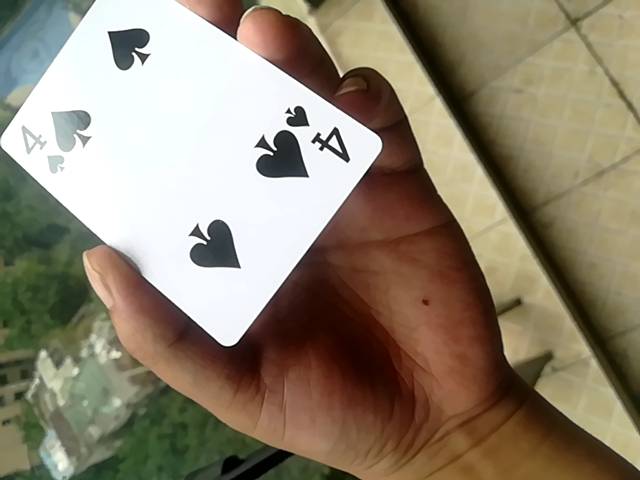ht 4: (2, 0, 386, 358)
